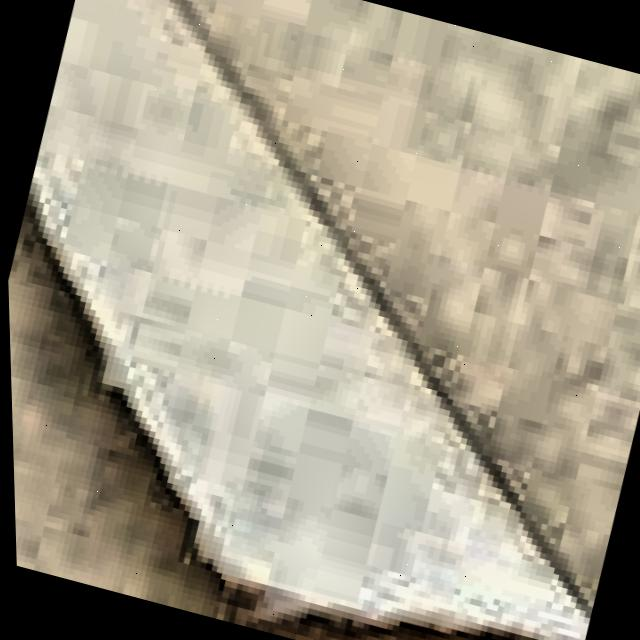paper: (6, 0, 640, 640)
